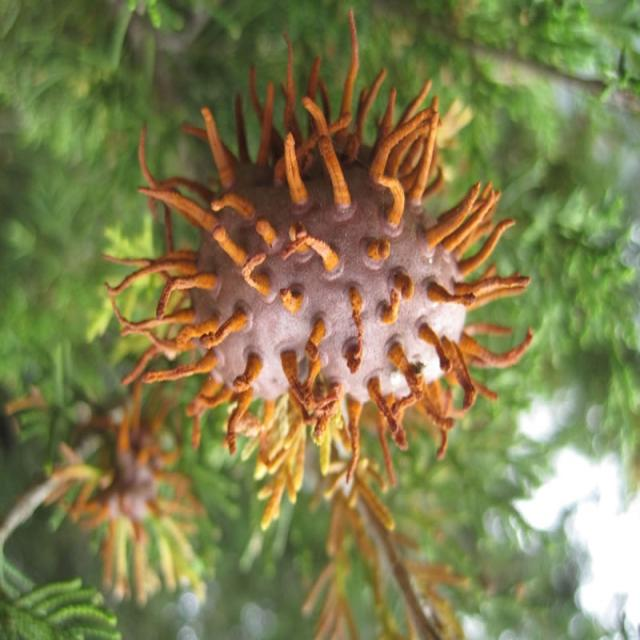Gymnosporangium_Rusts: (102, 8, 534, 527)
